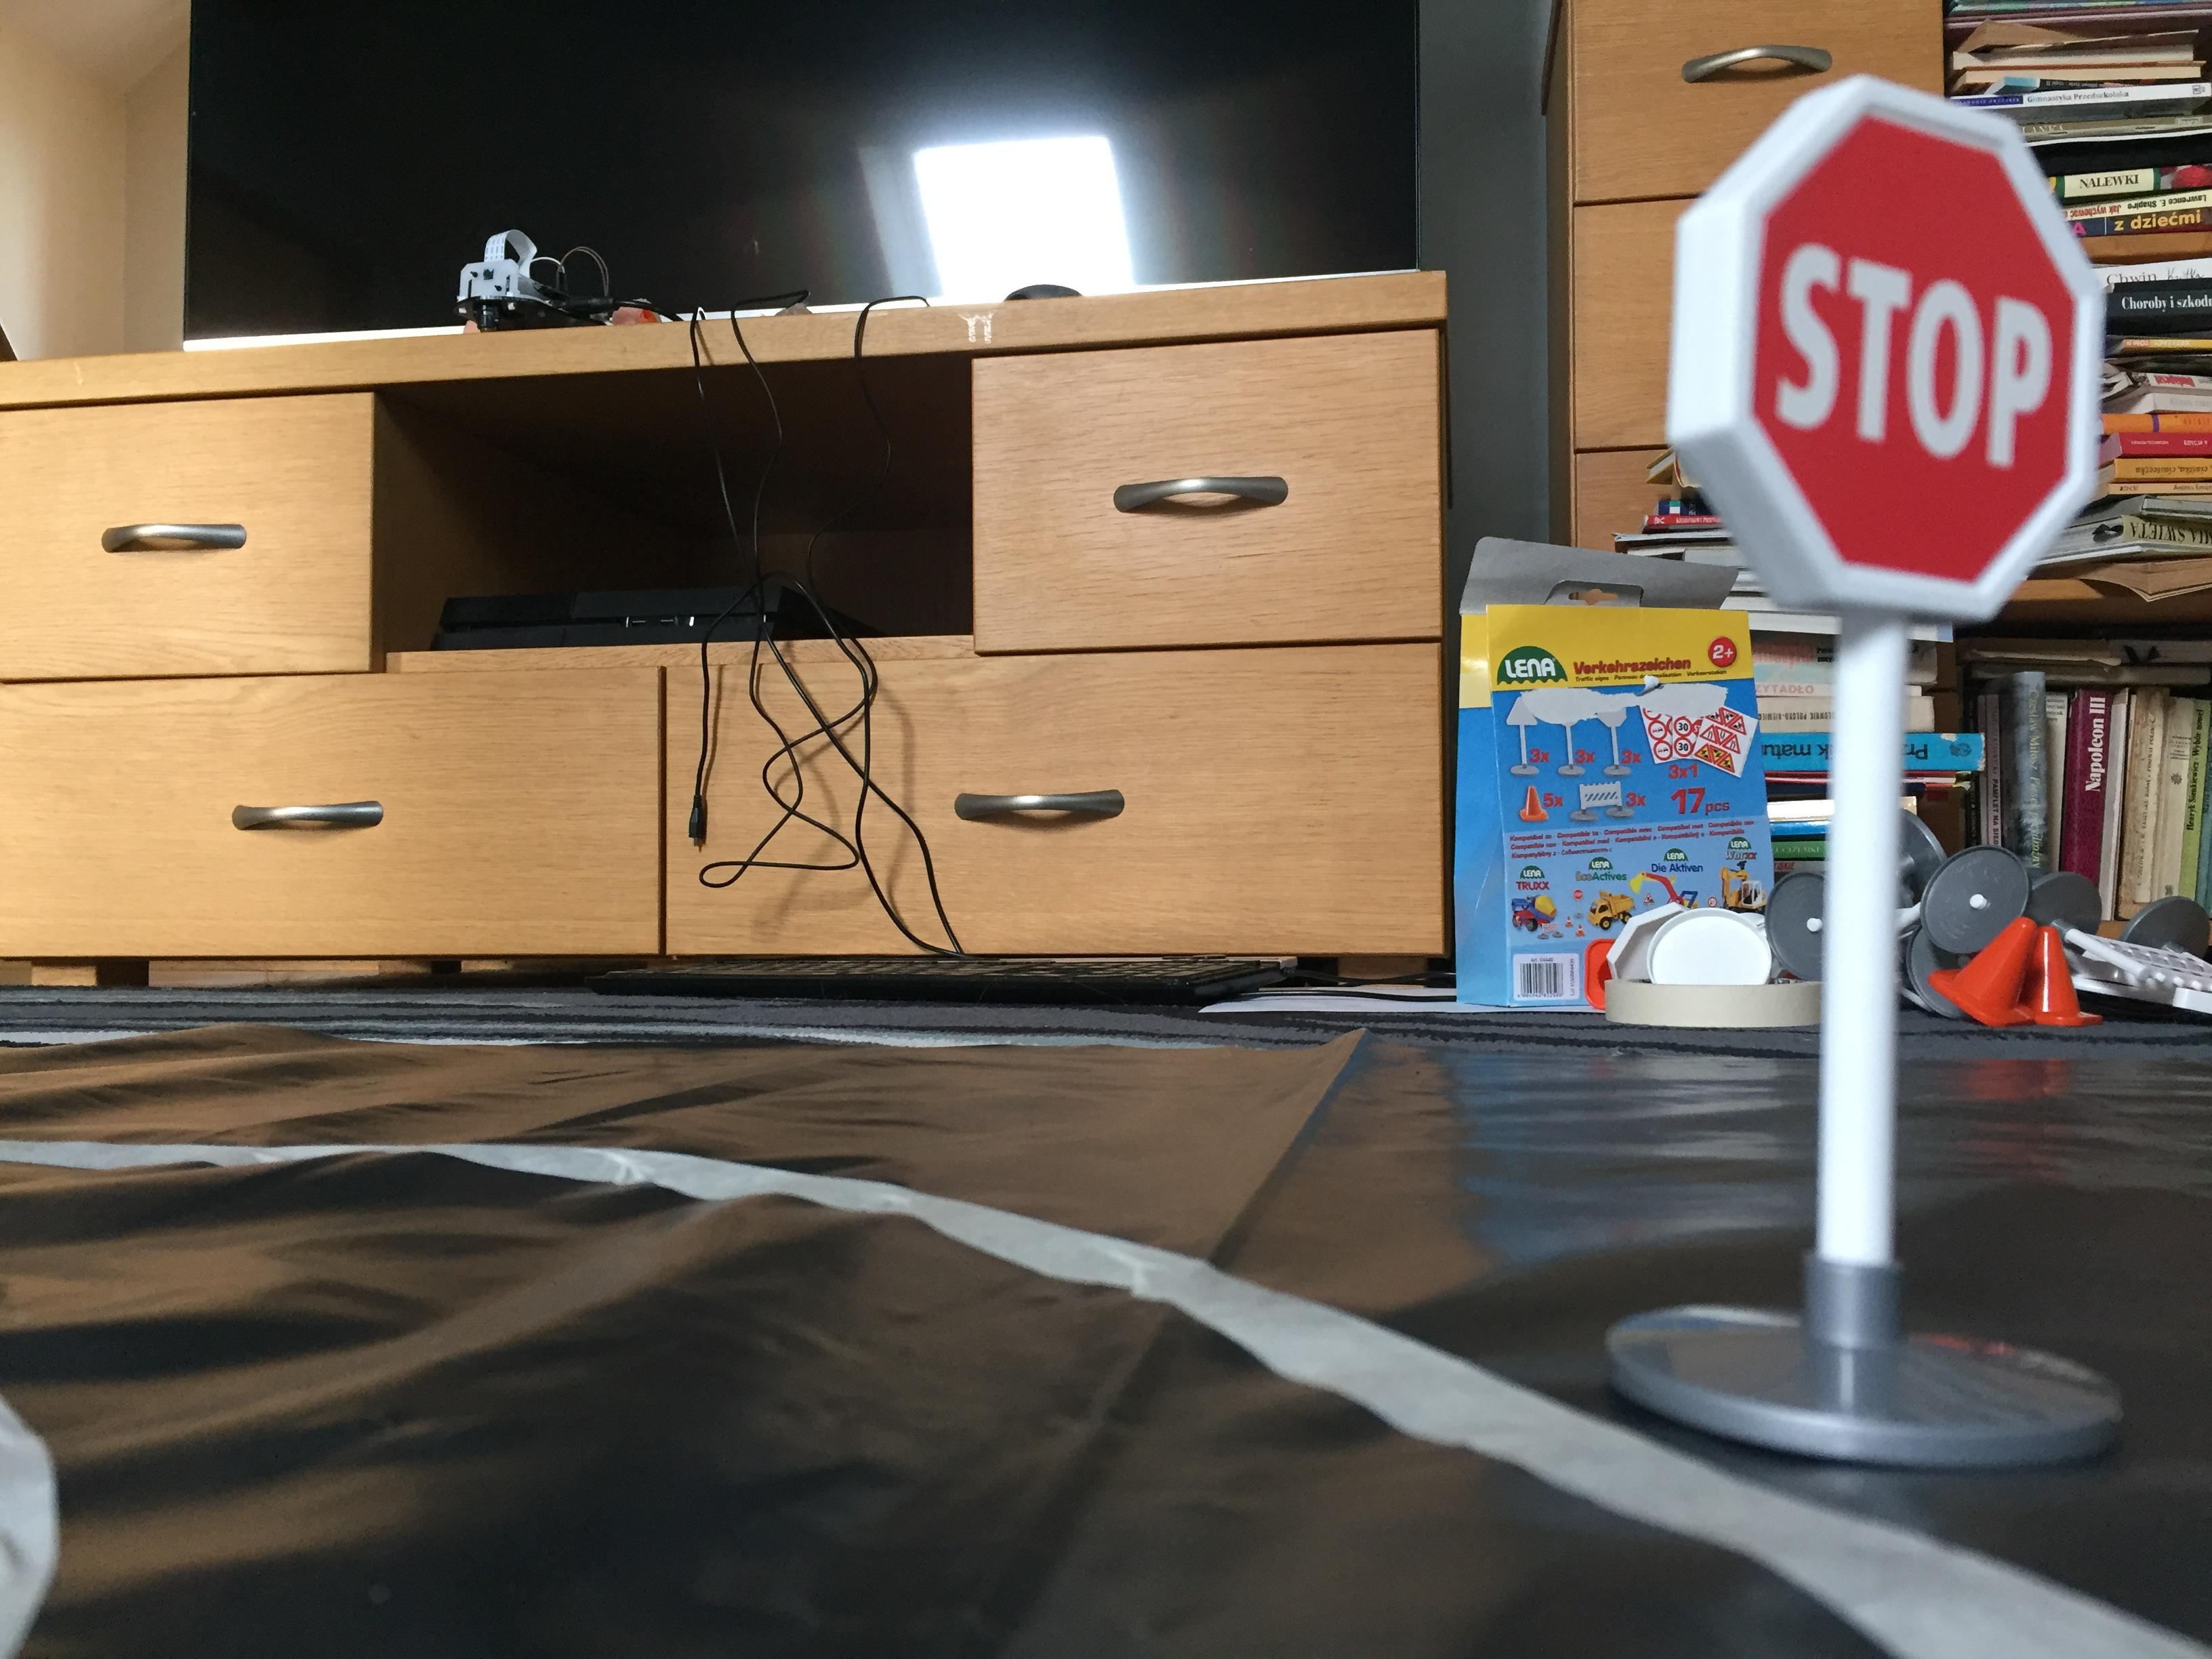stop: (1646, 61, 2116, 645)
